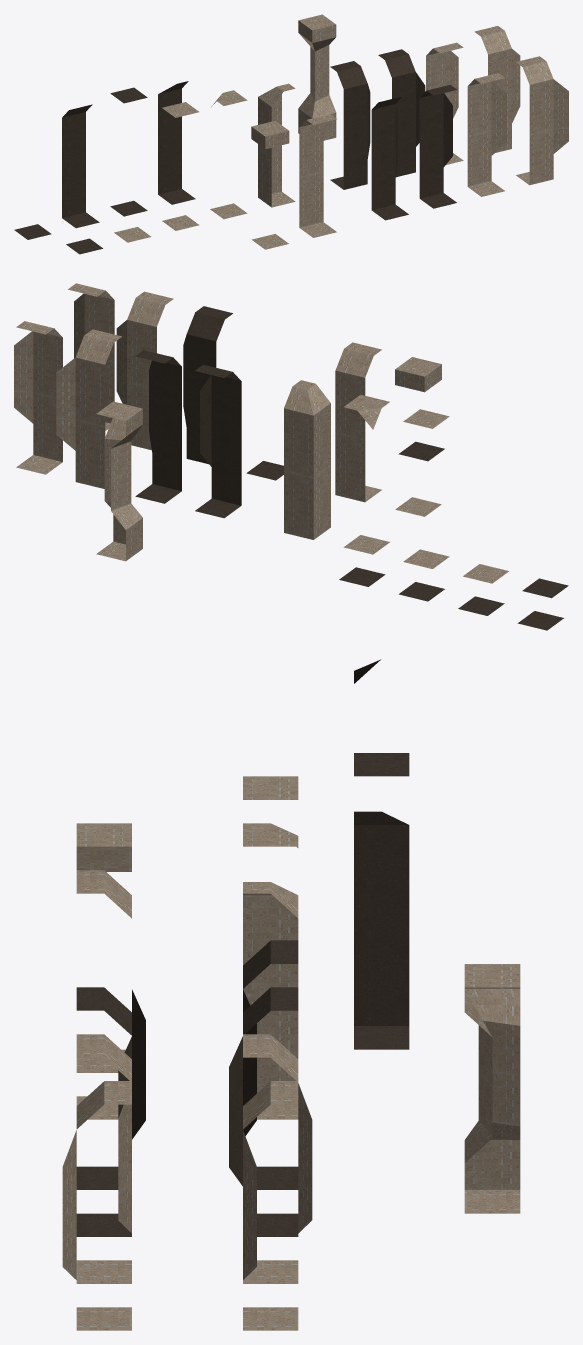
The model's file is tilesLevel1_1.glb.
3 renders of one model, top to bottom at view 1: azimuth 30°, elevation 25°; view 2: azimuth 150°, elevation 25°; view 3: azimuth 270°, elevation 25°, orthographic. The views are drawn at different scales.
Parts seen in each view (by area): view 1: brickConnector3-col, brickConnector-col, connectorDirt3-col, connectorDirt2-col, connectorDirt-col, wallBrick-col, ColumnEdgeBrick-col.001, connectorDirt4-col, wallDirt-col, cornerDirt-col, wallCornerBrick-col, brickConnector4-col (+8 smaller); view 2: wallCornerBrick-col, brickConnector2-col, brickConnector4-col, connectorDirt2-col, connectorDirt4-col, wallBrick-col, ColumnEdgeBrick-col.001, brickConnector-col, connectorDirt3-col, brickConnector3-col, lowRoofBrick-col, roofEdgeBrick-col (+8 smaller); view 3: cornerDirt-col, ColumnEdgeBrick-col.001, wallCornerBrick-col, brickConnector3-col, brickConnector4-col, brickConnector2-col, brickConnector-col, connectorDirt4-col, lowRoofBrick-col, connectorDirt2-col, connectorDirt-col, connectorDirt3-col (+4 smaller).
Boxes of the visible parts, left/top/right/bottom form: brickConnector3-col: left=516, top=56, right=568, bottom=185; brickConnector-col: left=467, top=73, right=506, bottom=196; connectorDirt3-col: left=419, top=85, right=456, bottom=208; connectorDirt2-col: left=330, top=61, right=370, bottom=189; connectorDirt-col: left=371, top=96, right=408, bottom=220; wallBrick-col: left=299, top=114, right=336, bottom=237; ColumnEdgeBrick-col.001: left=298, top=14, right=336, bottom=140; connectorDirt4-col: left=378, top=49, right=425, bottom=177; wallDirt-col: left=62, top=104, right=99, bottom=228; cornerDirt-col: left=158, top=81, right=195, bottom=204; wallCornerBrick-col: left=258, top=83, right=295, bottom=207; brickConnector4-col: left=474, top=26, right=520, bottom=152; wallCornerBrick-col: left=284, top=380, right=330, bottom=539; brickConnector2-col: left=56, top=329, right=121, bottom=488; brickConnector4-col: left=14, top=321, right=62, bottom=474; connectorDirt2-col: left=195, top=364, right=241, bottom=518; connectorDirt4-col: left=135, top=350, right=181, bottom=503; wallBrick-col: left=335, top=342, right=381, bottom=502; ColumnEdgeBrick-col.001: left=96, top=401, right=142, bottom=561; brickConnector-col: left=116, top=291, right=173, bottom=450; connectorDirt3-col: left=183, top=306, right=232, bottom=464; brickConnector3-col: left=68, top=283, right=114, bottom=430; lowRoofBrick-col: left=395, top=357, right=441, bottom=516; roofEdgeBrick-col: left=343, top=394, right=389, bottom=554; cornerDirt-col: left=354, top=811, right=409, bottom=1049; ColumnEdgeBrick-col.001: left=464, top=964, right=520, bottom=1213; wallCornerBrick-col: left=243, top=882, right=298, bottom=1119; brickConnector3-col: left=62, top=1081, right=131, bottom=1330; brickConnector4-col: left=243, top=1081, right=298, bottom=1330; brickConnector2-col: left=243, top=1034, right=312, bottom=1283; brickConnector-col: left=76, top=1034, right=131, bottom=1283; connectorDirt4-col: left=229, top=987, right=298, bottom=1236; lowRoofBrick-col: left=76, top=823, right=131, bottom=1072; connectorDirt2-col: left=243, top=940, right=298, bottom=1189; connectorDirt-col: left=76, top=989, right=145, bottom=1189; connectorDirt3-col: left=76, top=987, right=131, bottom=1236.
Size of the model in its own units: 19.5 by 4.5 by 8.25.
2 materials, 2 textured.
